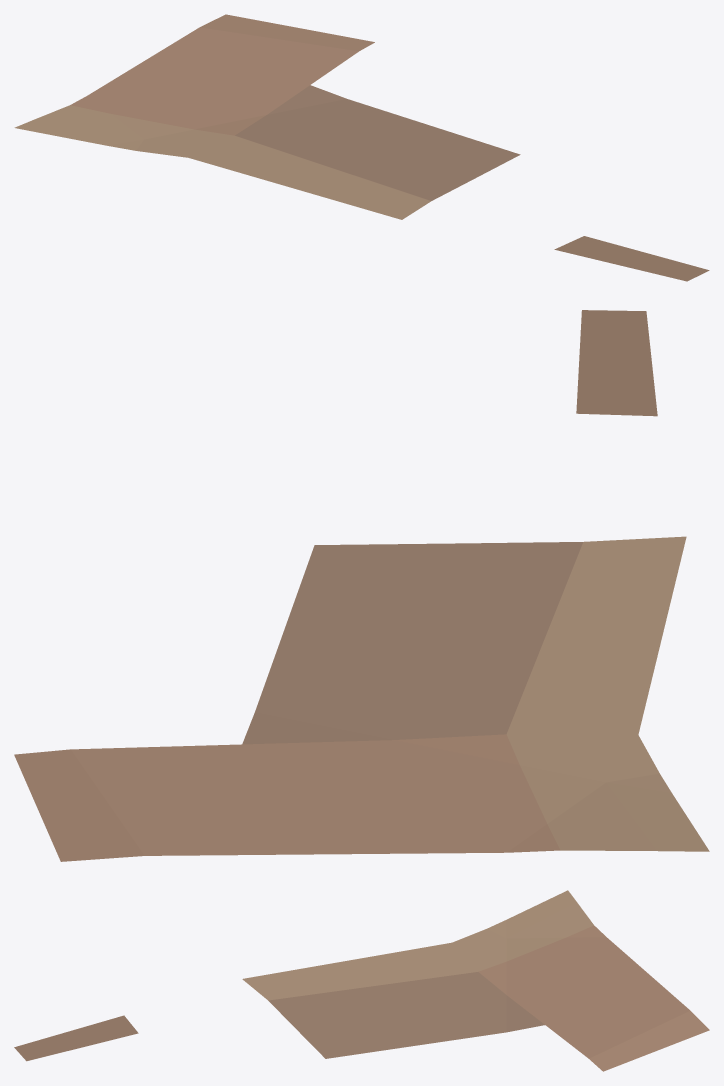
The model's file is farm_32_38_soil.glb.
The picture shows the model from 3 angles, top to bottom: view 1: azimuth 30°, elevation 25°; view 2: azimuth 150°, elevation 25°; view 3: azimuth 270°, elevation 25°; orthographic projection. The views are drawn at different scales.
Parts seen in each view (by area): view 1: geometry_0; view 2: geometry_0; view 3: geometry_0.
Part boxes in pixels (<box>): geometry_0: <box>14,14,709,281</box>; geometry_0: <box>14,310,709,861</box>; geometry_0: <box>14,890,709,1071</box>.
Size of the model in its own units: 89.6 by 4.95 by 161.
